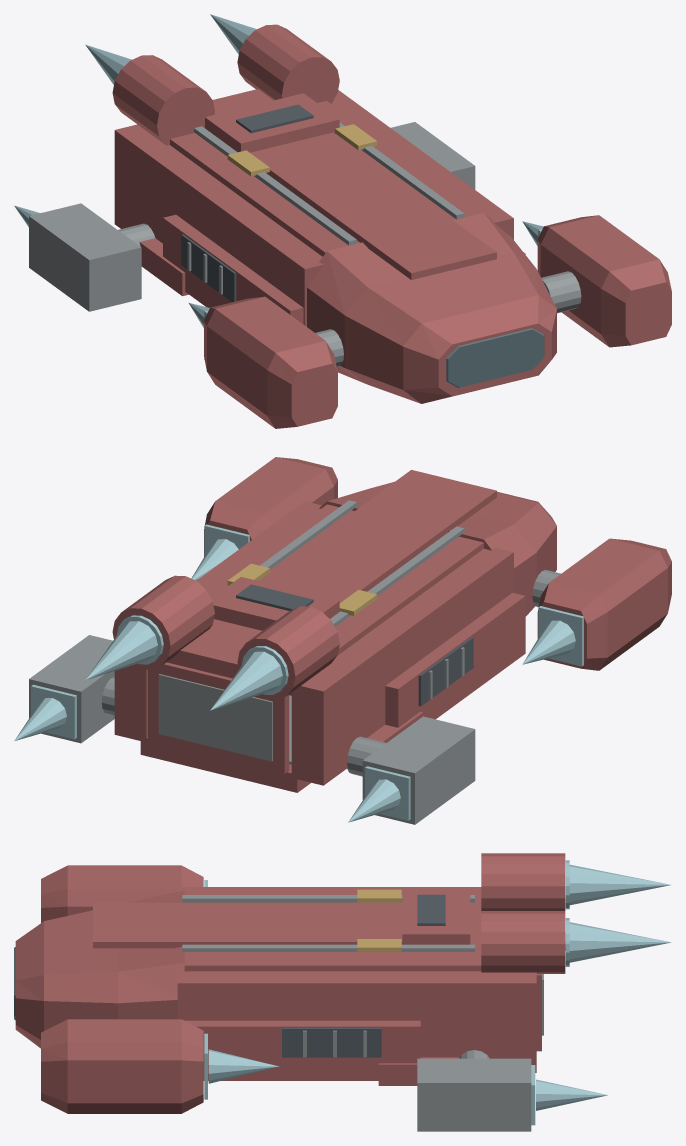
File: shipit_red_flight.glb
3 views of the same model, one above another, from view 1: azimuth 30°, elevation 25°; view 2: azimuth 150°, elevation 25°; view 3: azimuth 270°, elevation 25° (orthographic). The views are drawn at different scales.
Parts seen in each view (by area): view 1: body_0, engine_L_pivot_housing, engine_R_pivot_housing, rear_L_pivot_housing, body_1, body_2, body_4, rear_R_pivot_housing, body_5, body_3; view 2: body_0, engine_L_pivot_housing, rear_L_pivot_housing, cargo_ramp_detail, engine_R_pivot_housing, body_5, body_1, rear_R_pivot_housing, cargo_ramp_panel, body_4, engine_L_pivot_jet, engine_L_pivot_nozzle (+7 smaller); view 3: body_0, engine_R_pivot_housing, rear_R_pivot_housing, engine_L_pivot_housing, body_5, body_1, body_4, engine_R_pivot_jet, body_3, rear_R_pivot_jet, cargo_ramp_panel.
Part boxes in pixels (x1=…): body_0: x1=112, y1=24, x2=556, y2=403; engine_L_pivot_housing: x1=204, y1=296, x2=337, y2=428; engine_R_pivot_housing: x1=537, y1=215, x2=671, y2=347; rear_L_pivot_housing: x1=29, y1=203, x2=141, y2=311; body_1: x1=118, y1=122, x2=581, y2=366; body_2: x1=446, y1=328, x2=544, y2=387; body_4: x1=181, y1=104, x2=313, y2=302; rear_R_pivot_housing: x1=390, y1=122, x2=475, y2=189; body_5: x1=85, y1=14, x2=256, y2=84; body_3: x1=227, y1=124, x2=377, y2=176; body_0: x1=112, y1=470, x2=556, y2=792; engine_L_pivot_housing: x1=537, y1=538, x2=671, y2=670; rear_L_pivot_housing: x1=362, y1=716, x2=475, y2=824; cargo_ramp_detail: x1=158, y1=674, x2=272, y2=761; engine_R_pivot_housing: x1=204, y1=457, x2=337, y2=556; body_5: x1=85, y1=615, x2=288, y2=710; body_1: x1=101, y1=500, x2=560, y2=776; rear_R_pivot_housing: x1=29, y1=635, x2=114, y2=743; cargo_ramp_panel: x1=148, y1=662, x2=289, y2=774; body_4: x1=236, y1=584, x2=473, y2=706; engine_L_pivot_jet: x1=522, y1=620, x2=575, y2=664; engine_L_pivot_nozzle: x1=538, y1=606, x2=583, y2=666; body_0: x1=15, y1=853, x2=565, y2=1085; engine_R_pivot_housing: x1=41, y1=1019, x2=203, y2=1113; rear_R_pivot_housing: x1=417, y1=1058, x2=531, y2=1131; engine_L_pivot_housing: x1=41, y1=865, x2=203, y2=922; body_5: x1=565, y1=860, x2=671, y2=966; body_1: x1=182, y1=895, x2=489, y2=1058; body_4: x1=282, y1=894, x2=445, y2=1057; engine_R_pivot_jet: x1=208, y1=1049, x2=278, y2=1083; body_3: x1=357, y1=889, x2=401, y2=951; rear_R_pivot_jet: x1=536, y1=1079, x2=607, y2=1110; cargo_ramp_panel: x1=536, y1=974, x2=541, y2=1051.
Size of the model in its own units: 2.76 by 1.1 by 4.16.
